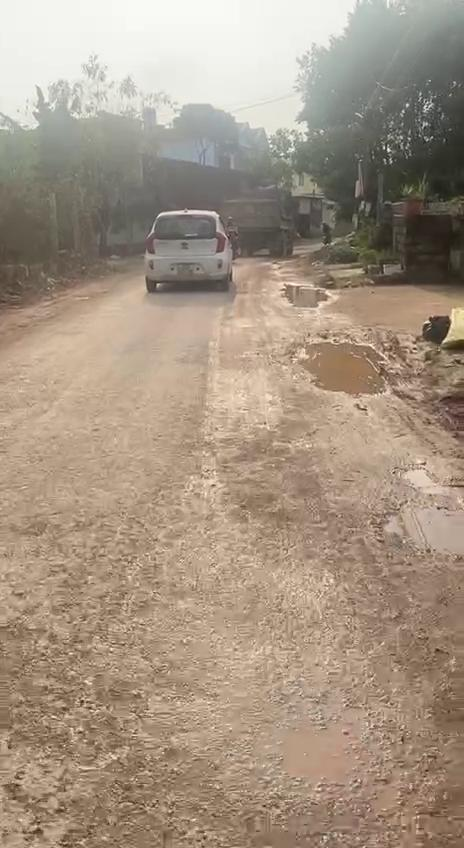pothole: (369, 458, 464, 563), (273, 330, 394, 402), (276, 280, 334, 311)
